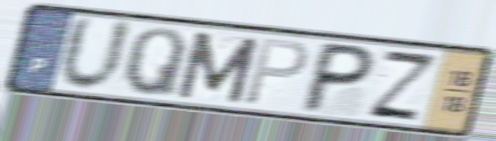M: (173, 29, 263, 106)
P: (295, 39, 380, 115), (240, 37, 312, 108)
Q: (119, 25, 190, 101)
U: (55, 13, 136, 95)
Z: (363, 47, 442, 124)
